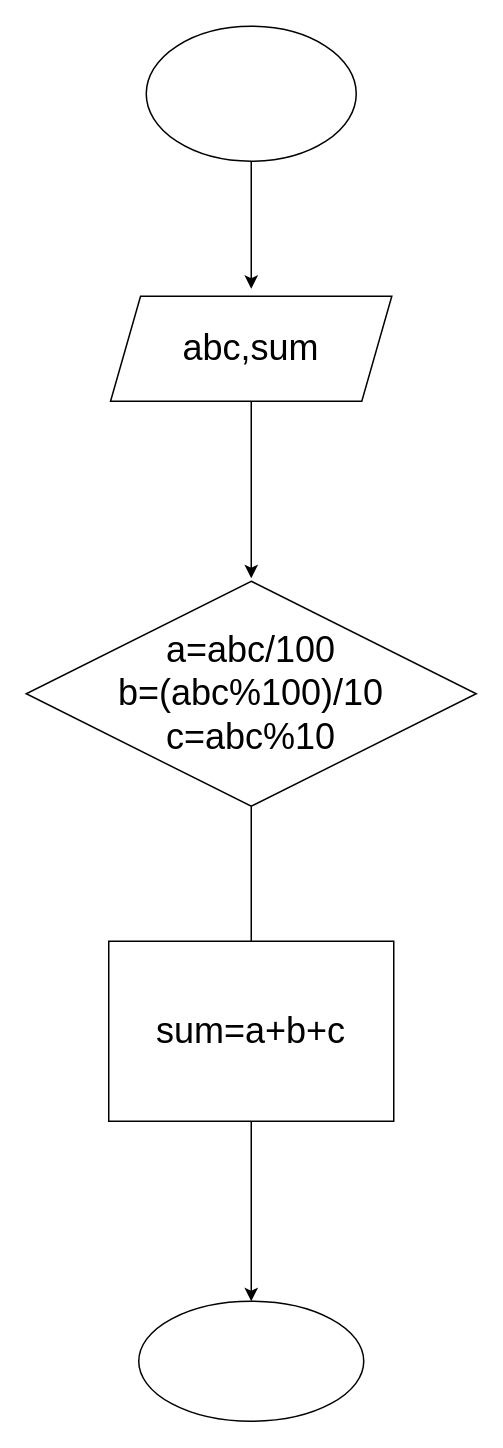
Some shapes in this 503 by 1448 pixel diagram are drawn without their labels. The centre of each missing label's shape, as x and y in pixels:
END: (250,1360)
START: (250,93)
